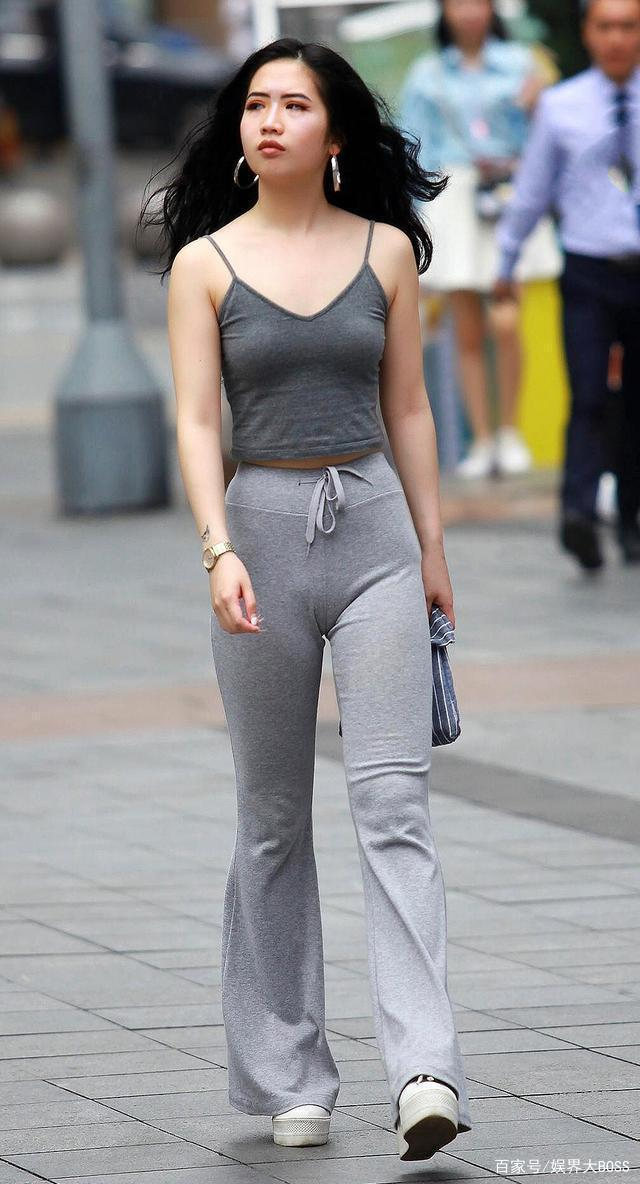person: (139, 19, 514, 1184)
